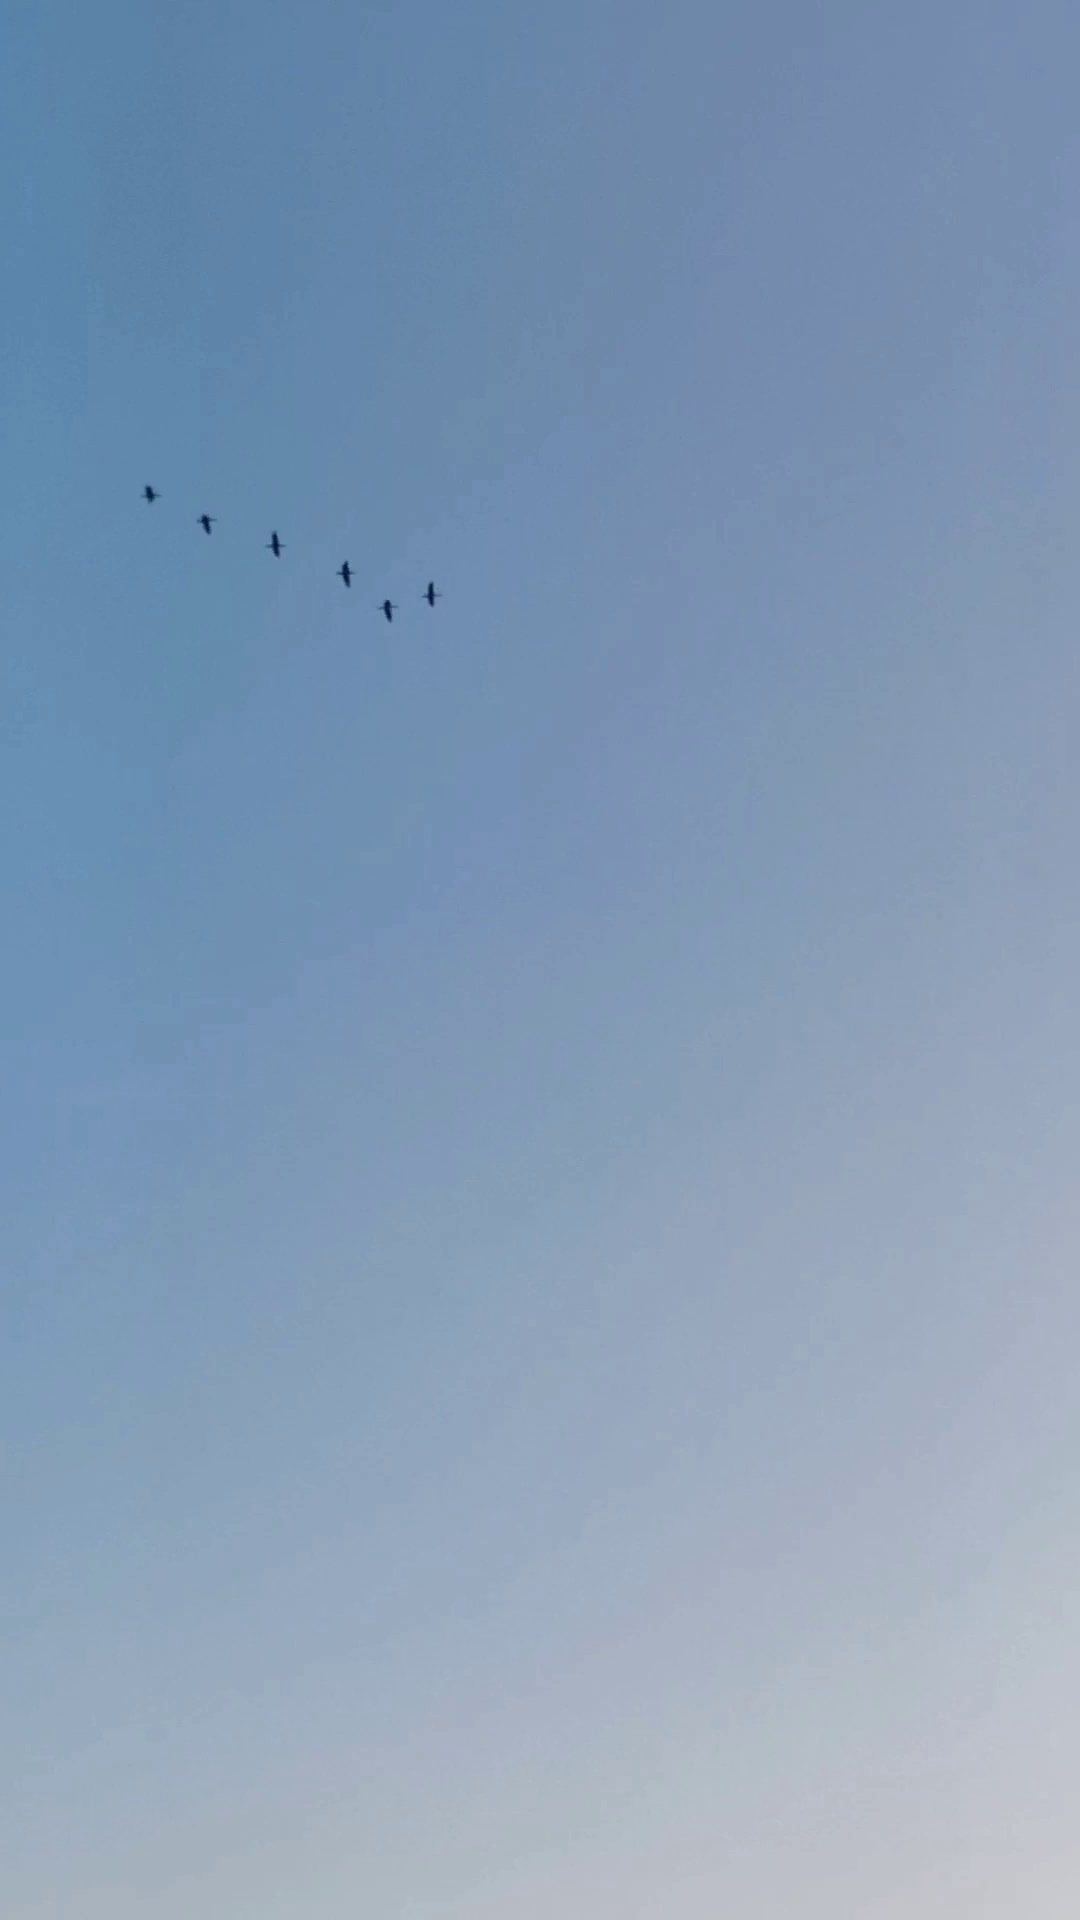bird: (264, 527, 286, 559), (335, 560, 357, 588), (378, 599, 401, 624), (196, 512, 218, 534), (421, 584, 440, 608), (141, 484, 162, 504)
